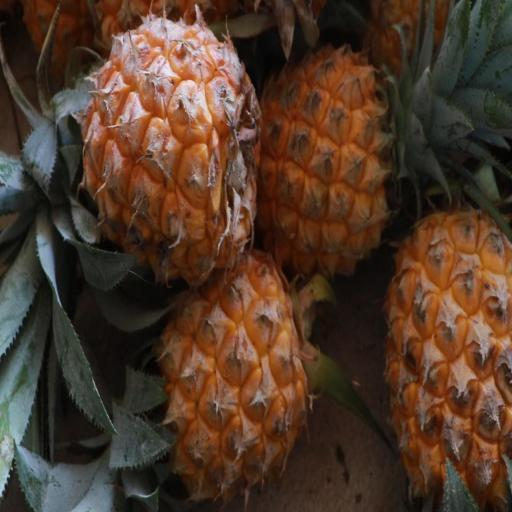Pineapple - v8 v1: (14, 0, 268, 294), (134, 238, 322, 512), (255, 37, 433, 293), (383, 203, 512, 512)
